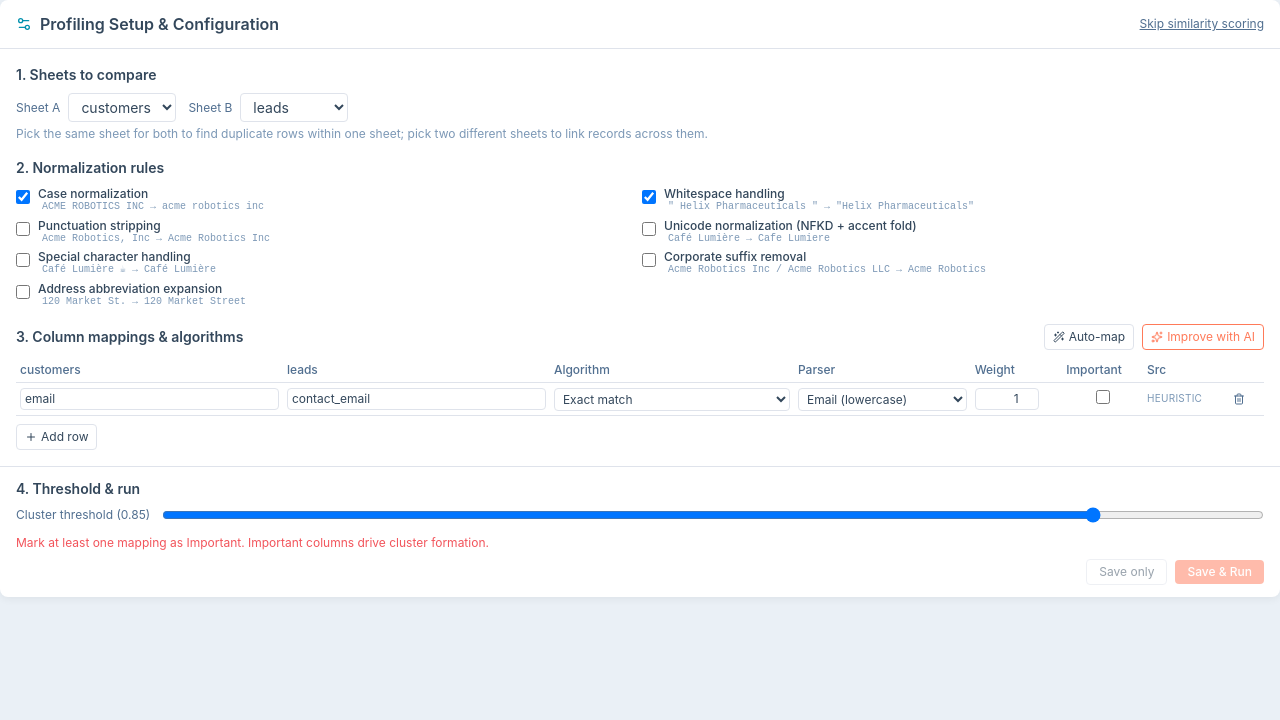
Scenario: DataQualityConfigPage › refetches the recommendation when the user picks a new Sheet B
Expected: the field showing "email" is shown, [20,388,279,410]
Select "orders" in the dropdown labelled "Sheet B" at (294,108), box [240,93,348,122]
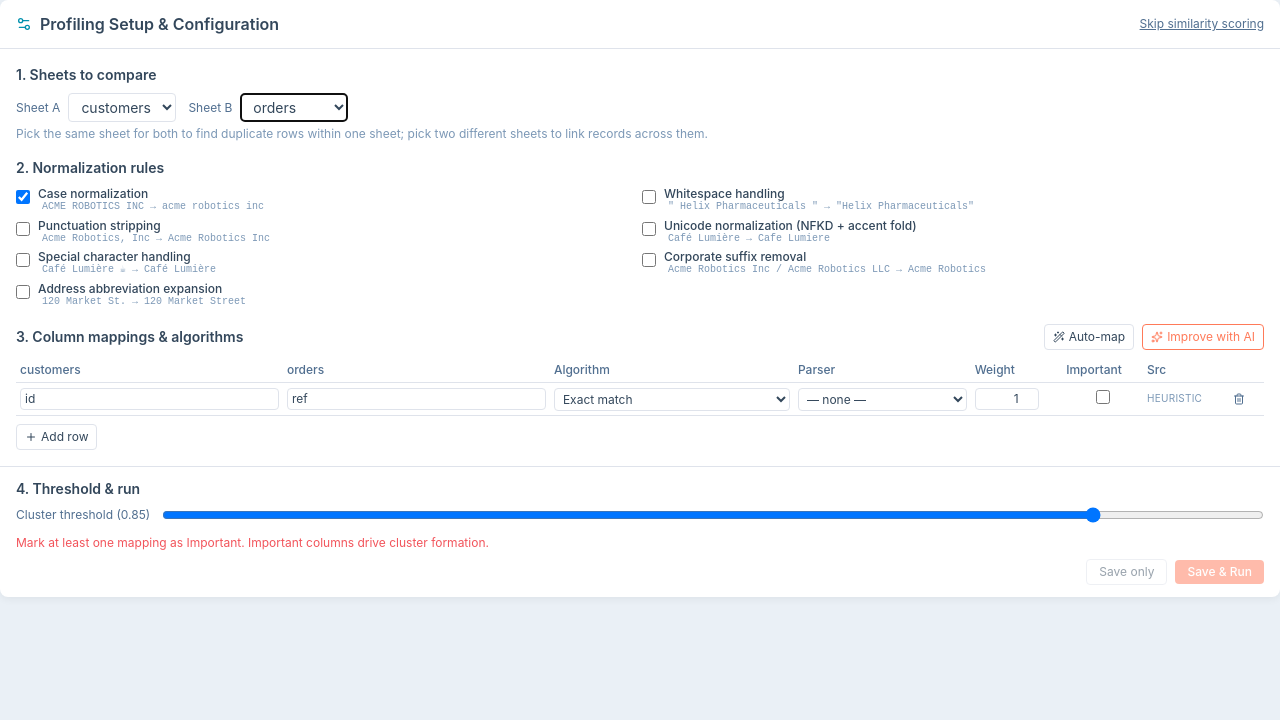
Now the field showing "ref" is shown, box [287,388,546,410]
